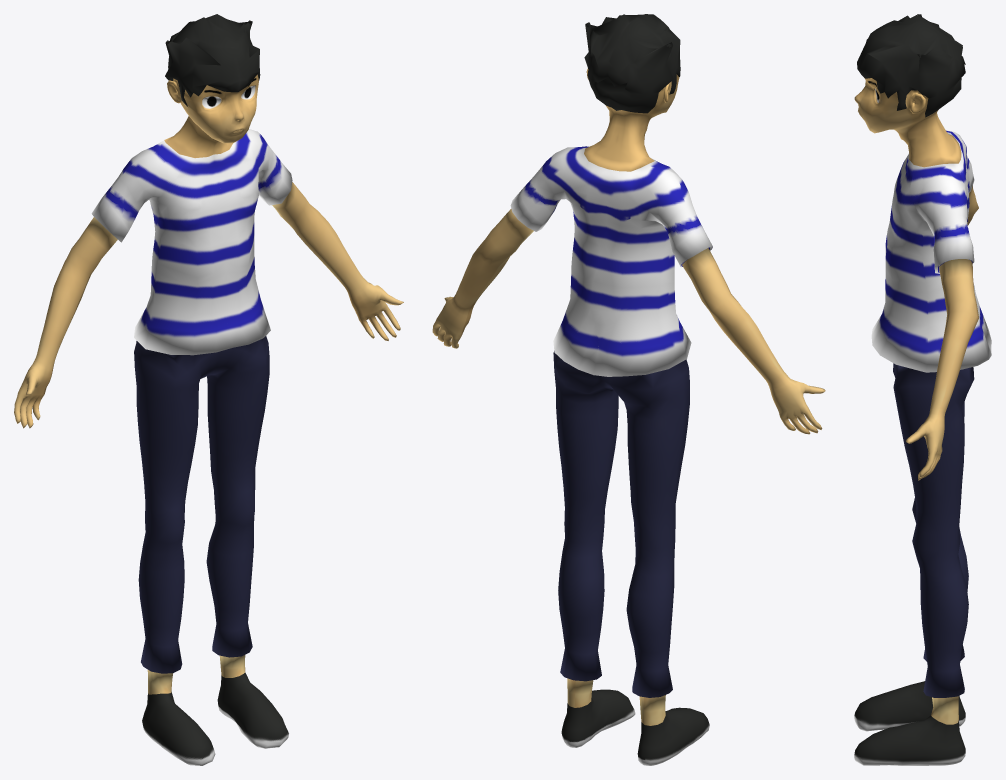
The model's file is man.fbx.
3 views of the same model, side by side, from view 1: azimuth 30°, elevation 25°; view 2: azimuth 150°, elevation 25°; view 3: azimuth 270°, elevation 25° (orthographic).
Parts seen in each view (by area): view 1: Retopo.001; view 2: Retopo.001; view 3: Retopo.001.
Part boxes in pixels (box(x1,y1,x2,y2)): Retopo.001: box(14, 14, 403, 765); Retopo.001: box(432, 14, 825, 765); Retopo.001: box(854, 14, 991, 765).
Size of the model in its own units: 658 by 1179 by 202.
